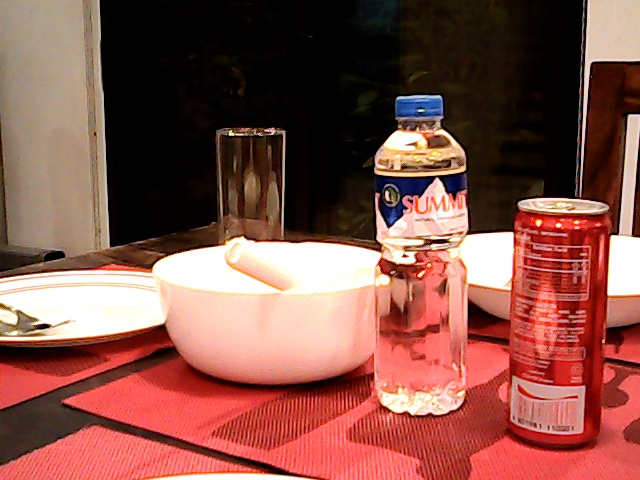Cola: (508, 192, 613, 451)
Summit Water: (376, 91, 472, 421)
